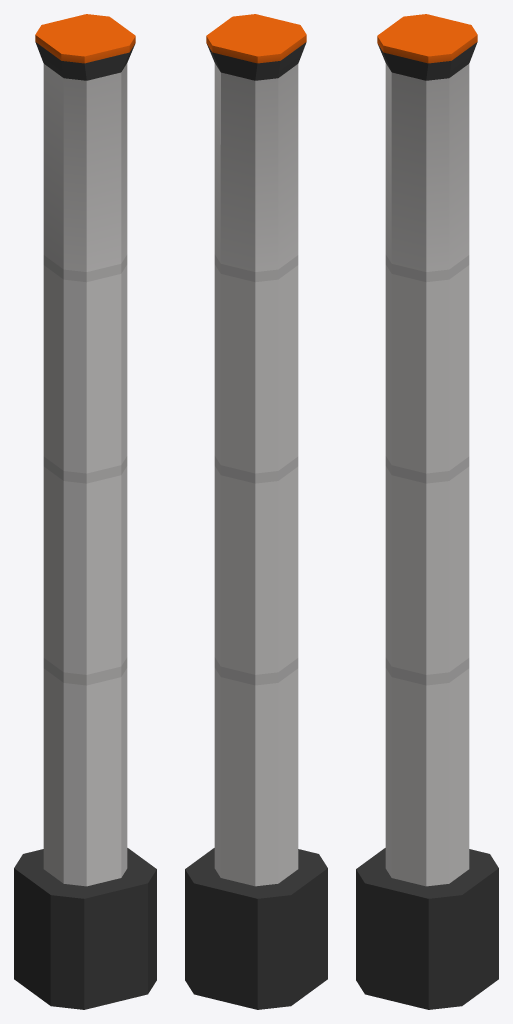
Rendered from pillar.gltf.
The picture shows the model from 3 angles, left to right: view 1: azimuth 30°, elevation 25°; view 2: azimuth 150°, elevation 25°; view 3: azimuth 330°, elevation 25°; orthographic projection.
Visible parts, largest first — view 1: Cube; view 2: Cube; view 3: Cube.
Boxes of the visible parts, bbox=[...] form: Cube: bbox=[14, 14, 156, 1009]; Cube: bbox=[185, 14, 327, 1009]; Cube: bbox=[356, 14, 498, 1009].
Size of the model in its own units: 0.2 by 1.7 by 0.2.
